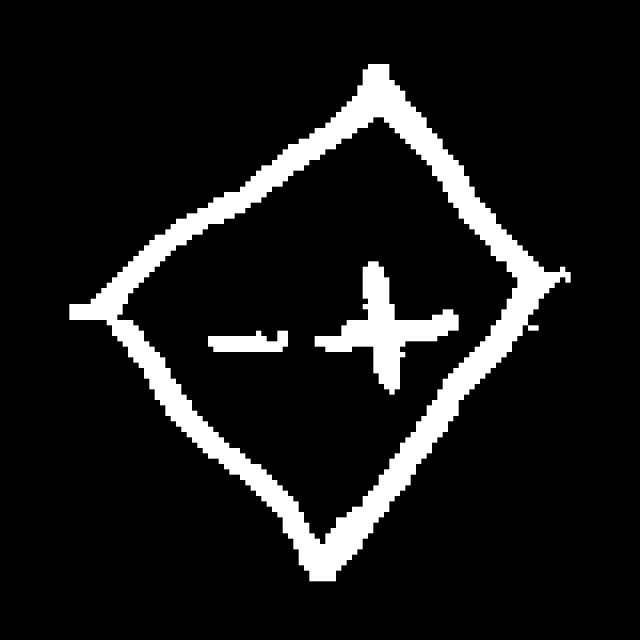dependant_voltage: (80, 52, 525, 587)
